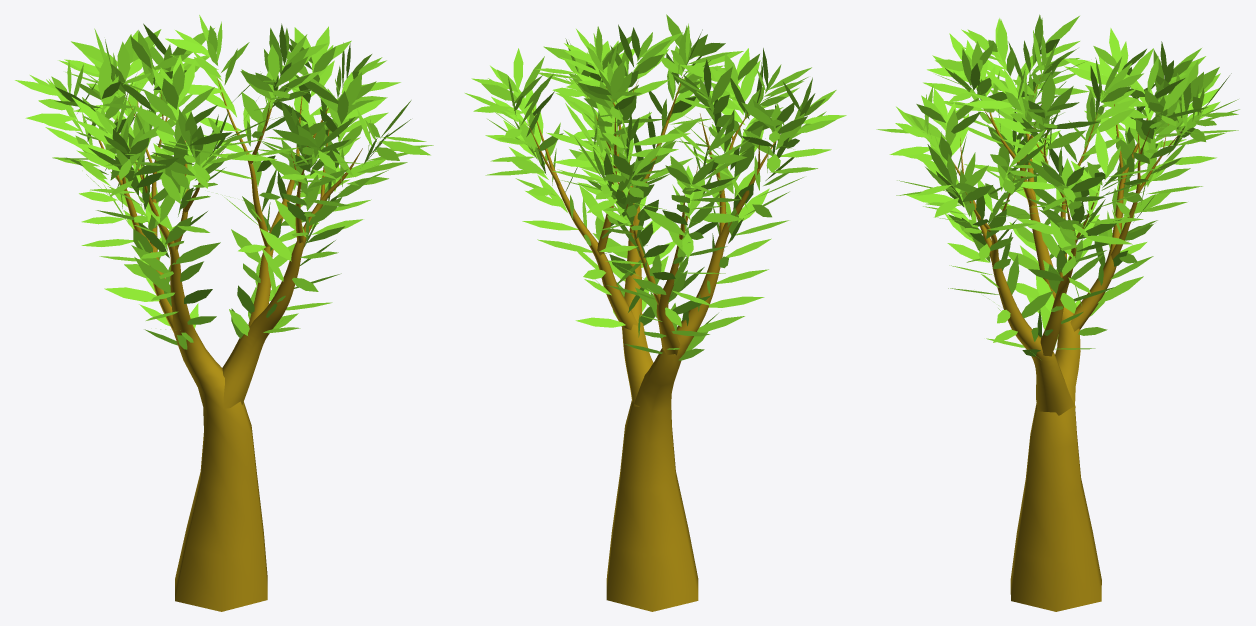
Rendered from Tree_Olivier_2.fbx.
The picture shows the model from 3 angles, left to right: view 1: azimuth 30°, elevation 25°; view 2: azimuth 150°, elevation 25°; view 3: azimuth 270°, elevation 25°; orthographic projection.
Visible parts, largest first — view 1: leaves, tree; view 2: leaves, tree; view 3: leaves, tree.
Part boxes in pixels (bbox=[...]): leaves: bbox=[15, 15, 433, 349]; tree: bbox=[92, 76, 362, 611]; leaves: bbox=[465, 14, 846, 360]; tree: bbox=[527, 77, 780, 611]; leaves: bbox=[876, 14, 1239, 359]; tree: bbox=[953, 77, 1183, 611].
Bounding box in the file's own units: 240 × 388 × 236.
